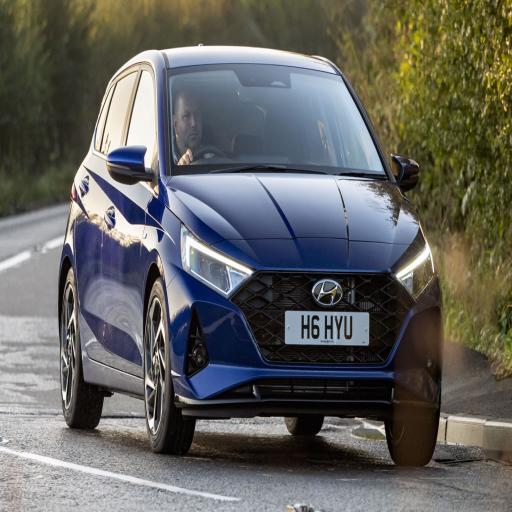License: (284, 308, 373, 352)
